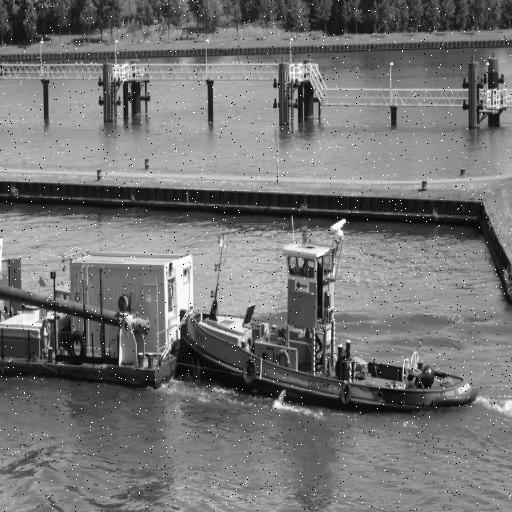tugboat: (182, 214, 482, 438)
